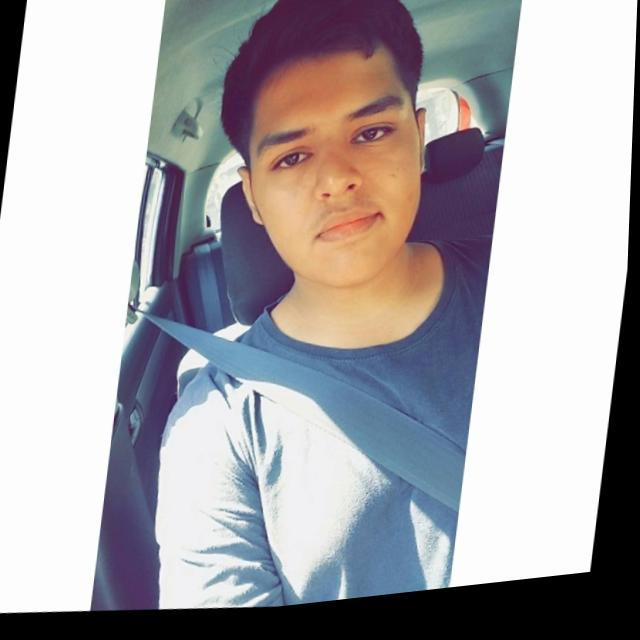Nonhelmet: (217, 0, 431, 289)
